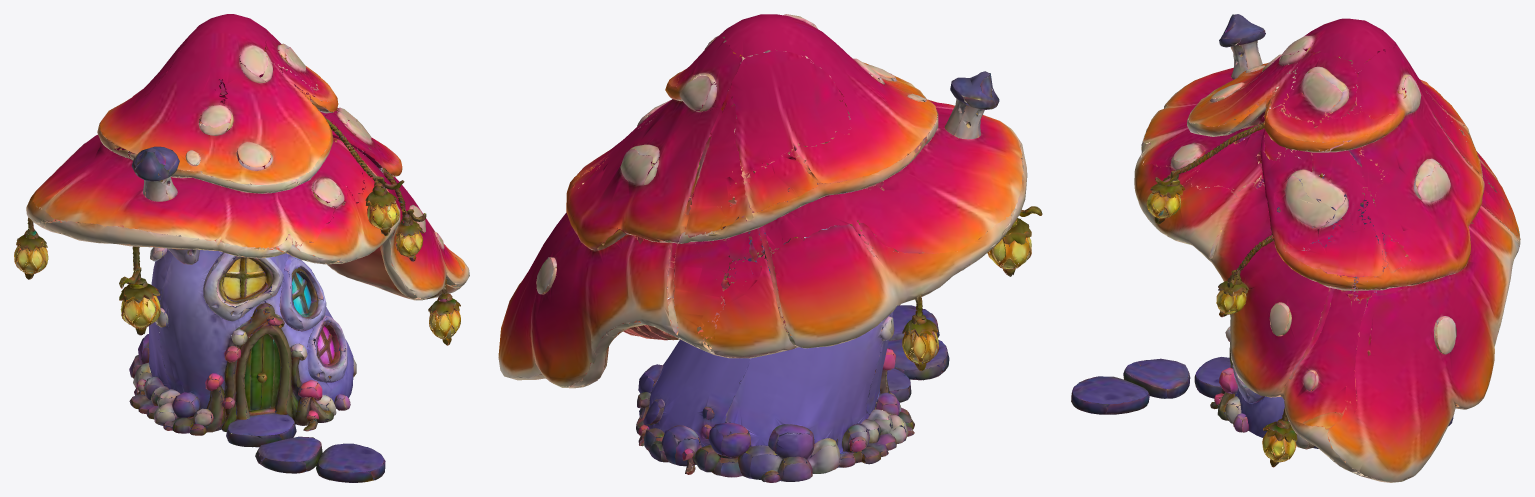
The model's file is mushroom-lantern.glb.
3 renders of one model, left to right at view 1: azimuth 30°, elevation 25°; view 2: azimuth 150°, elevation 25°; view 3: azimuth 270°, elevation 25°, orthographic. The views are drawn at different scales.
Visible parts, largest first — view 1: Mesh_0; view 2: Mesh_0; view 3: Mesh_0.
Part boxes in pixels (left/top/right/bottom): Mesh_0: left=14, top=14, right=469, bottom=482; Mesh_0: left=498, top=14, right=1042, bottom=482; Mesh_0: left=1071, top=14, right=1520, bottom=482.
Size of the model in its own units: 1.9 by 1.57 by 1.7.
Materials: 1 (1 with a texture image).
